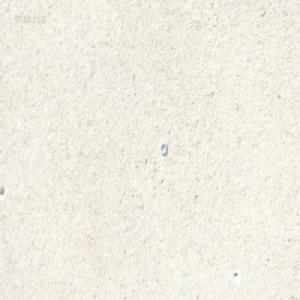Washer: (160, 142, 168, 157)
